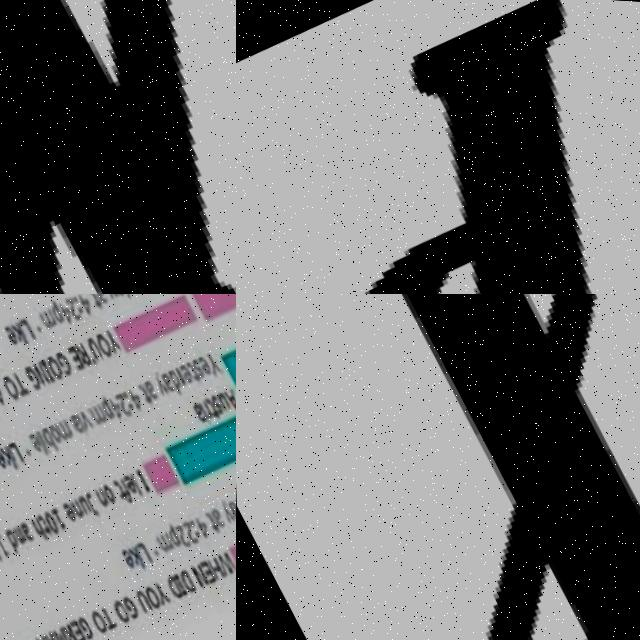0: (38, 503, 58, 530)
1: (47, 500, 65, 527)
2: (178, 514, 197, 539), (111, 387, 130, 412), (170, 517, 187, 541), (61, 294, 79, 315)
4: (105, 389, 124, 417), (124, 381, 143, 407), (189, 507, 208, 532), (55, 295, 73, 319), (73, 294, 93, 311)
A: (218, 378, 236, 406), (155, 362, 174, 388), (206, 500, 223, 522), (140, 373, 157, 395), (188, 395, 205, 416), (15, 515, 31, 537), (67, 407, 82, 429), (39, 624, 58, 640), (223, 491, 236, 513), (0, 376, 5, 402)
B: (37, 421, 57, 449)
D: (0, 522, 19, 550), (174, 562, 193, 588), (161, 569, 180, 595), (165, 362, 183, 388), (231, 489, 236, 515)
E: (64, 338, 84, 366), (195, 553, 214, 579), (64, 614, 83, 640), (116, 540, 134, 565), (194, 347, 212, 370), (176, 356, 193, 378), (24, 427, 41, 449), (119, 467, 135, 489), (58, 495, 74, 517), (1, 318, 17, 340), (0, 442, 5, 464)
F: (115, 472, 131, 497)
G: (52, 345, 72, 373), (21, 360, 41, 388), (116, 587, 136, 614), (73, 610, 91, 635)
H: (27, 511, 46, 539), (202, 549, 222, 575)
I: (132, 461, 149, 487), (195, 395, 209, 421), (170, 566, 185, 590), (34, 426, 49, 450), (73, 407, 88, 431), (14, 316, 28, 341), (129, 539, 144, 562), (38, 354, 53, 377), (3, 440, 17, 464), (0, 528, 6, 553)
J: (80, 485, 98, 512)
K: (123, 539, 143, 567), (7, 315, 26, 343), (0, 440, 14, 467)
L: (17, 312, 35, 339), (132, 534, 150, 560), (5, 436, 22, 463), (126, 467, 141, 492), (31, 426, 46, 451)
M: (84, 396, 106, 421), (35, 302, 57, 327), (150, 523, 171, 548), (51, 412, 72, 437), (48, 620, 67, 640)
N: (0, 0, 236, 294), (187, 556, 207, 582), (29, 356, 49, 382), (90, 480, 106, 502), (66, 492, 82, 514), (8, 519, 22, 541), (30, 629, 48, 640)
O: (83, 600, 107, 630), (42, 348, 63, 376), (0, 368, 19, 398), (107, 591, 127, 619), (92, 326, 112, 352), (139, 579, 158, 605), (43, 418, 60, 440), (99, 476, 115, 498)
P: (360, 0, 586, 294), (44, 294, 64, 320), (95, 389, 113, 415), (160, 517, 178, 540)
R: (71, 335, 92, 363), (58, 618, 75, 640), (198, 391, 212, 413), (171, 358, 185, 380)
S: (188, 350, 203, 371), (207, 387, 221, 408)
T: (8, 366, 28, 394), (95, 600, 114, 625), (200, 502, 218, 528), (202, 389, 219, 416), (183, 353, 200, 380), (33, 508, 50, 533), (108, 470, 124, 495), (135, 377, 151, 401), (85, 294, 101, 304)
U: (82, 330, 102, 358), (130, 582, 149, 608), (73, 488, 89, 510), (213, 383, 229, 405)
V: (75, 403, 92, 425)
W: (210, 540, 235, 571)
X: (236, 294, 640, 640)
Y: (148, 573, 168, 598), (214, 490, 233, 516), (202, 345, 221, 371), (101, 322, 120, 348), (149, 364, 167, 390), (21, 633, 41, 640)
